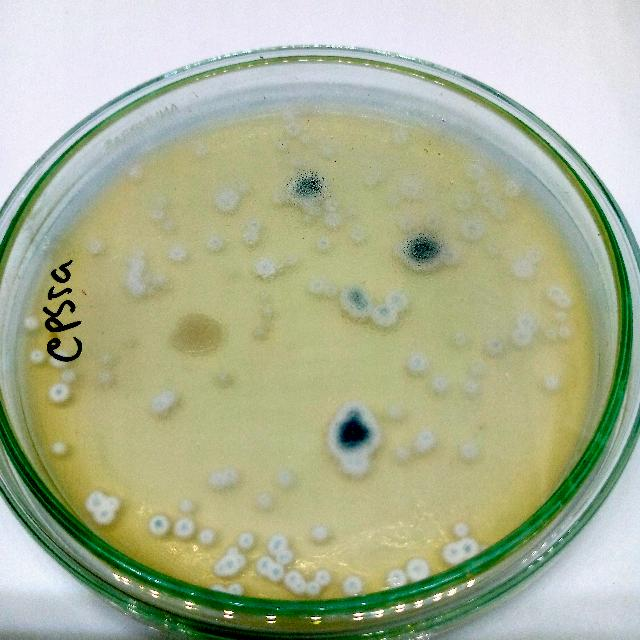colony: (164, 308, 226, 364), (395, 232, 451, 278), (326, 418, 382, 458), (284, 170, 330, 208), (336, 450, 376, 480), (120, 272, 156, 302), (210, 182, 242, 215), (341, 285, 373, 317), (248, 254, 278, 284), (149, 388, 177, 417), (460, 214, 488, 242), (338, 400, 372, 422), (44, 381, 72, 407), (402, 350, 430, 376), (538, 370, 566, 396), (372, 302, 398, 330), (454, 438, 481, 464), (412, 428, 438, 454), (458, 376, 484, 402), (205, 232, 229, 260), (509, 256, 537, 280), (389, 440, 416, 464), (438, 243, 462, 270), (441, 541, 465, 567), (406, 556, 430, 582), (384, 566, 408, 592), (448, 190, 474, 214), (211, 371, 237, 394), (341, 574, 365, 598), (308, 520, 332, 544), (146, 513, 170, 537), (384, 288, 408, 312), (426, 373, 452, 395), (449, 330, 475, 352), (394, 210, 420, 232), (464, 356, 488, 379), (457, 536, 479, 560), (266, 533, 290, 555), (512, 327, 536, 349), (344, 224, 368, 246), (500, 178, 524, 200), (401, 180, 424, 202), (92, 504, 114, 526), (84, 237, 106, 259), (390, 126, 412, 148), (172, 518, 196, 538), (84, 492, 108, 512), (482, 334, 506, 354), (124, 163, 146, 184), (95, 367, 116, 388), (49, 350, 71, 370), (248, 322, 270, 342), (240, 228, 260, 250), (167, 246, 189, 266), (187, 140, 209, 160), (490, 201, 510, 223), (313, 566, 333, 586), (304, 579, 324, 599), (21, 312, 41, 332), (383, 401, 403, 421), (464, 162, 484, 182), (265, 564, 285, 584), (220, 554, 238, 576), (256, 488, 274, 510), (314, 232, 336, 250), (230, 180, 252, 198), (276, 472, 296, 491), (26, 348, 46, 367), (539, 323, 559, 342), (450, 520, 470, 538), (198, 528, 216, 548), (548, 306, 568, 324), (555, 323, 575, 341), (256, 557, 274, 577), (272, 549, 294, 565), (148, 207, 166, 226), (50, 439, 70, 456), (227, 580, 245, 598), (280, 252, 298, 270), (320, 282, 338, 300), (424, 214, 442, 232), (278, 108, 296, 126), (290, 578, 308, 596), (102, 494, 121, 511), (222, 468, 238, 488), (205, 470, 222, 488), (473, 178, 491, 195), (480, 190, 498, 207), (237, 533, 255, 549), (177, 498, 195, 514), (58, 368, 76, 384), (244, 216, 262, 232), (310, 278, 326, 296), (386, 194, 404, 210), (284, 570, 302, 586), (547, 284, 563, 300), (556, 292, 572, 308), (209, 582, 227, 596), (516, 314, 534, 328), (297, 134, 315, 148), (223, 544, 239, 558), (232, 552, 248, 566), (274, 140, 290, 154), (214, 562, 228, 576), (286, 124, 300, 138), (320, 145, 334, 159), (362, 174, 376, 188), (528, 322, 538, 332)
